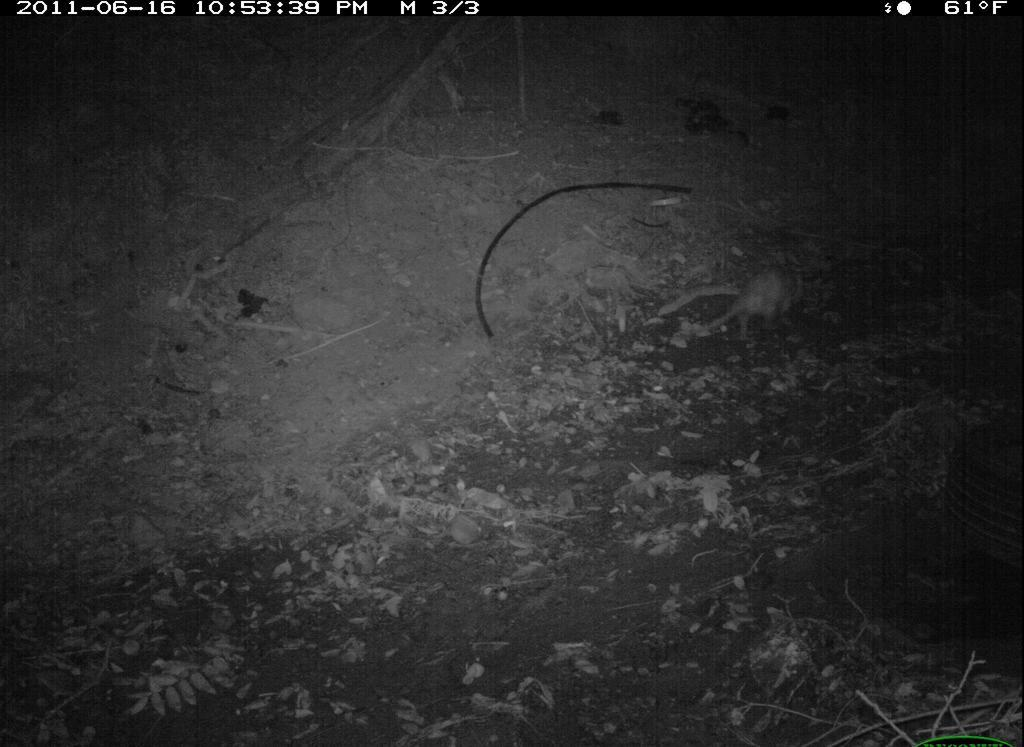opossum: (699, 263, 820, 349)
